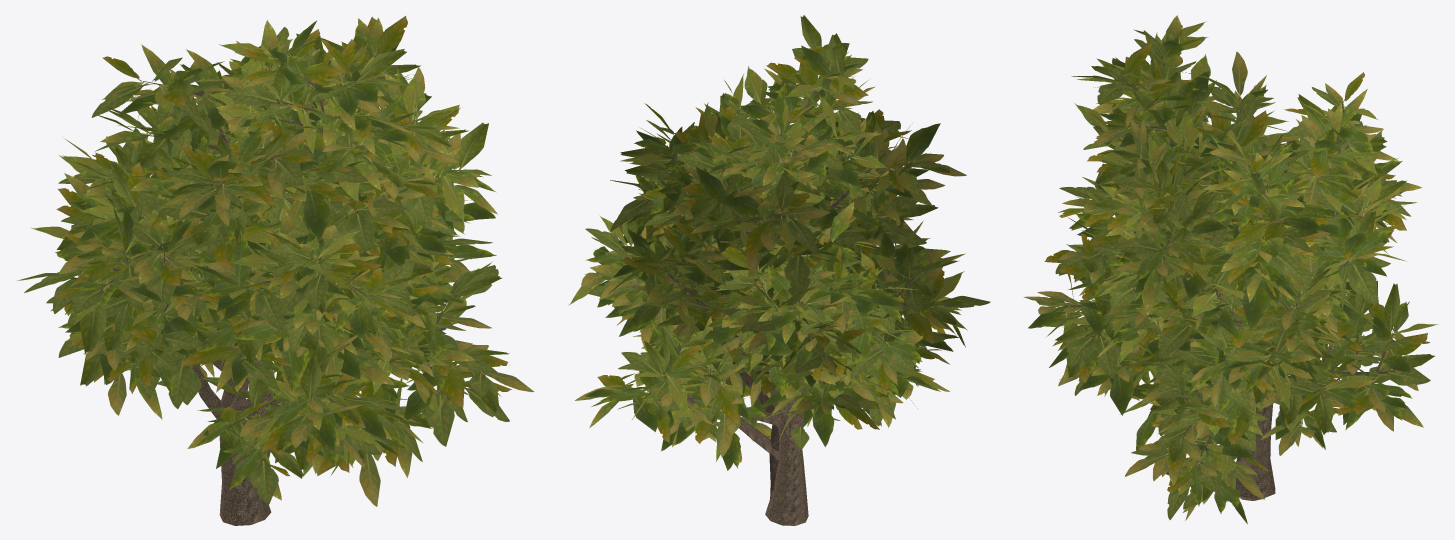
The model's file is trees_broadleaf.glb.
3 renders of one model, left to right at view 1: azimuth 30°, elevation 25°; view 2: azimuth 150°, elevation 25°; view 3: azimuth 270°, elevation 25°, orthographic. The views are drawn at different scales.
Parts seen in each view (by area): view 1: tree_oak, tree_oak_c, tree_oak_b; view 2: tree_oak, tree_oak_c, tree_oak_b; view 3: tree_oak_c, tree_oak, tree_oak_b.
Boxes of the visible parts, x1,y1,x2,y2 form: tree_oak: (30, 16, 496, 419); tree_oak_c: (17, 105, 534, 525); tree_oak_b: (77, 20, 497, 458); tree_oak: (608, 102, 990, 498); tree_oak_c: (568, 202, 961, 525); tree_oak_b: (638, 15, 901, 371); tree_oak_c: (1023, 129, 1438, 524); tree_oak: (1058, 57, 1422, 500); tree_oak_b: (1044, 15, 1333, 461).
Bounding box in the file's own units: 8.66 × 9.65 × 7.83.
Materials: 2 (2 with a texture image).
